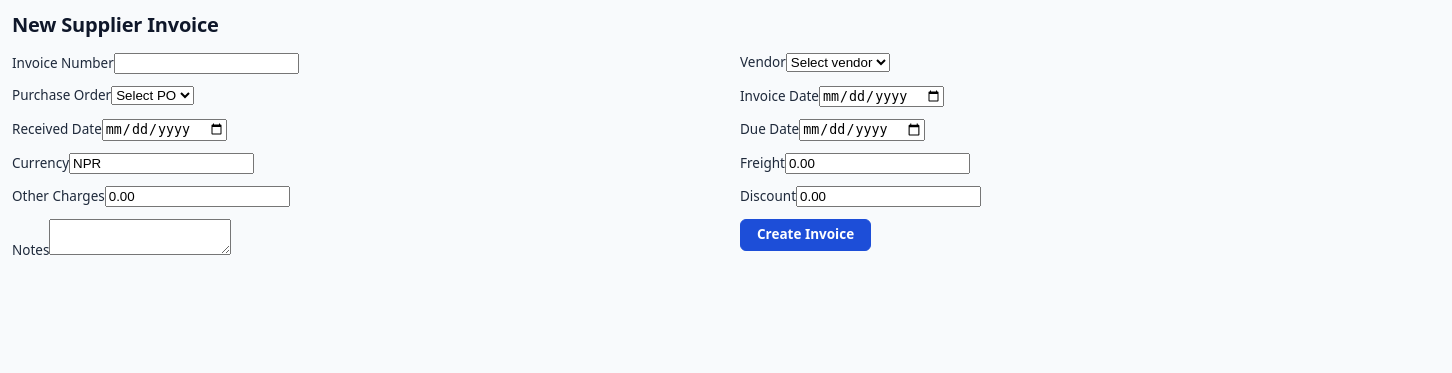
Test: P3 invoice create › renders 400 field errors readably instead of raw JSON
The image size is (1452, 373).
Type "INV-DUP" into the field labelled "Invoice Number" at (206, 64), box left=114, top=53, right=299, bottom=74
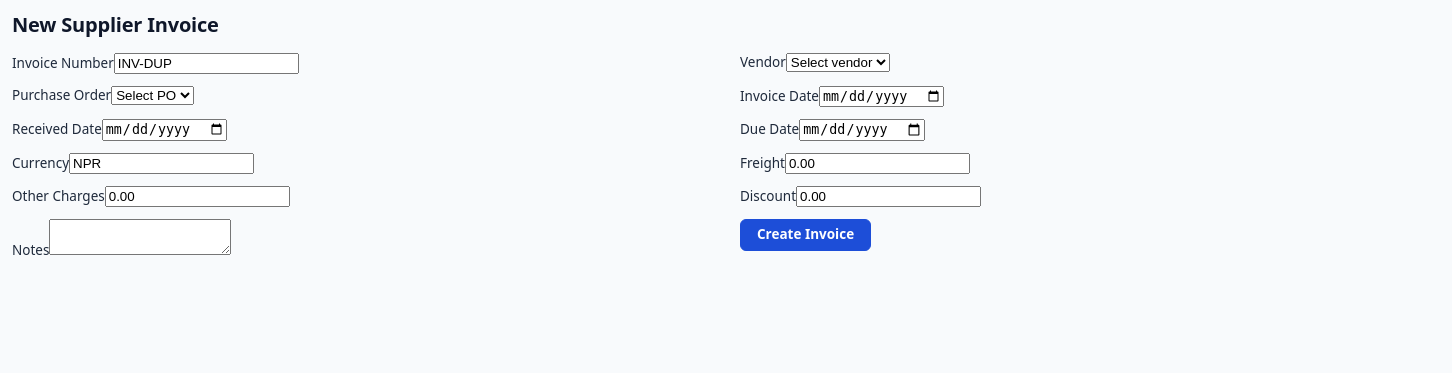
Select "Acme" in the dropdown labelled "Vendor" at (838, 62), box left=786, top=53, right=890, bottom=72
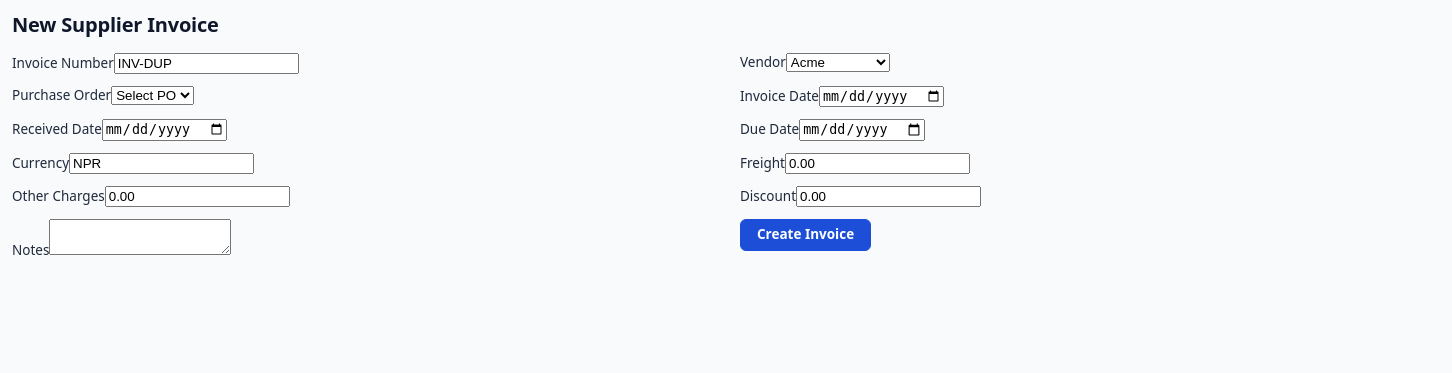
Select "PO-5 - 2" in the dropdown labelled "Purchase Order" at (153, 96), box left=111, top=86, right=194, bottom=105
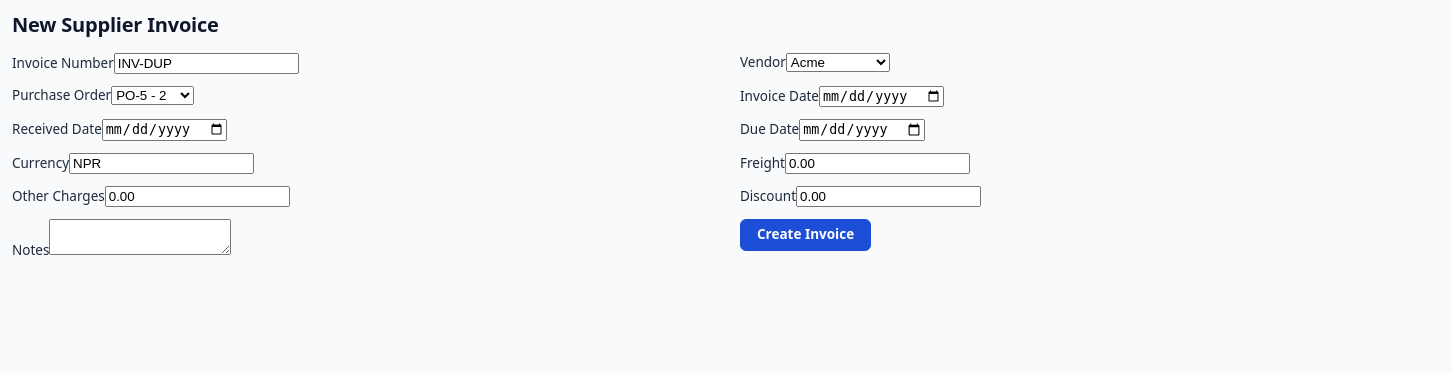
Type "2026-11-10" into the date field labelled "Invoice Date" at (882, 97), box left=819, top=86, right=944, bottom=107
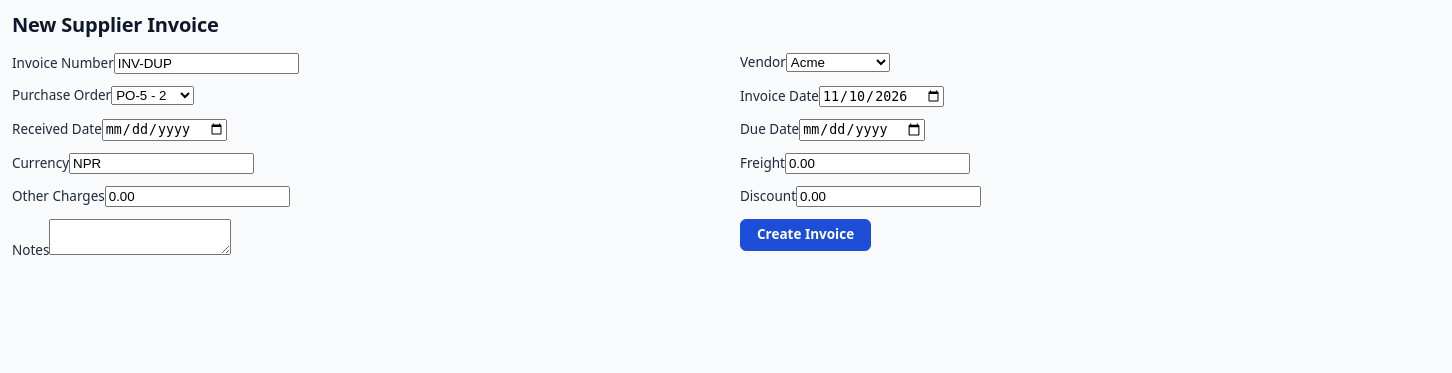
Type "2026-11-11" into the date field labelled "Received Date" at (164, 130), box left=102, top=119, right=227, bottom=141
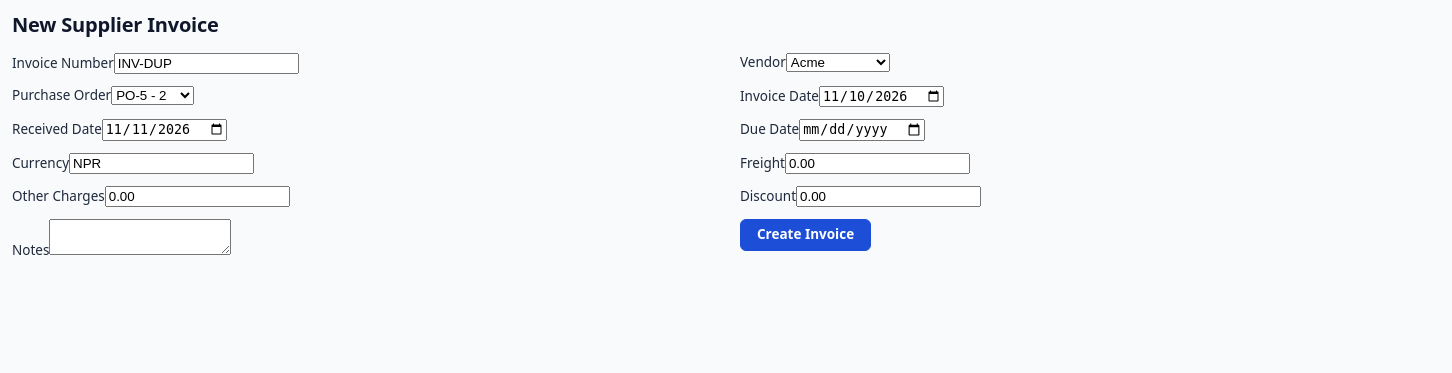
Click the button "Create Invoice" at (806, 235), box left=740, top=219, right=871, bottom=251
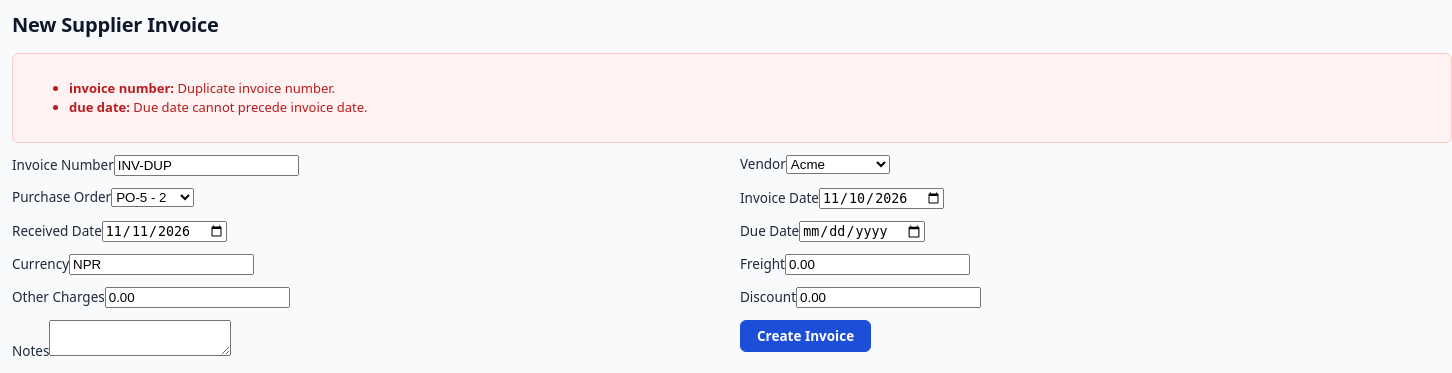
Check: the message is shown, box left=12, top=53, right=1451, bottom=143
Check: the list item "Duplicate invoice number." is shown, box left=177, top=79, right=335, bottom=97
Check: the list item "Due date cannot precede invoice date." is shown, box left=133, top=98, right=368, bottom=116
